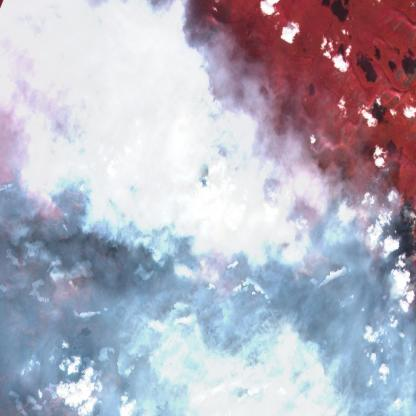fire: (0, 155, 216, 280), (180, 51, 416, 162)
